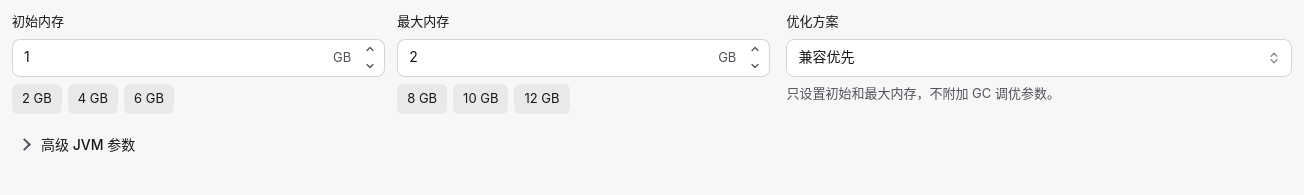
Test: memory: max memory offers only the three presets 8 / 10 / 12 GB, and clicking a preset fills it in directly
The image size is (1304, 195).
Click the button "8 GB" at [422, 98], box [397,84,447,114]
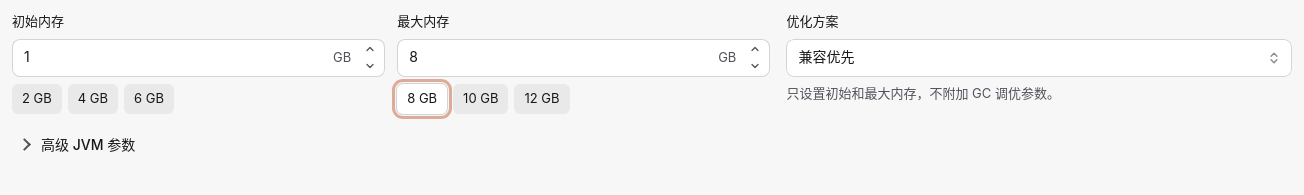
Result: the field labelled "最大内存" holds "8"
Clear the field labelled "最大内存" at [584, 58], box [397,38,770,76]
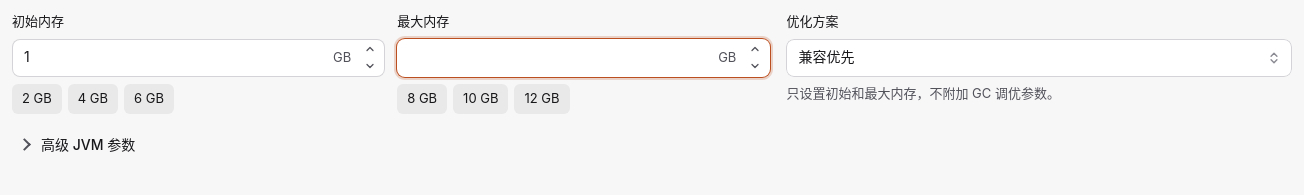
Press Tab
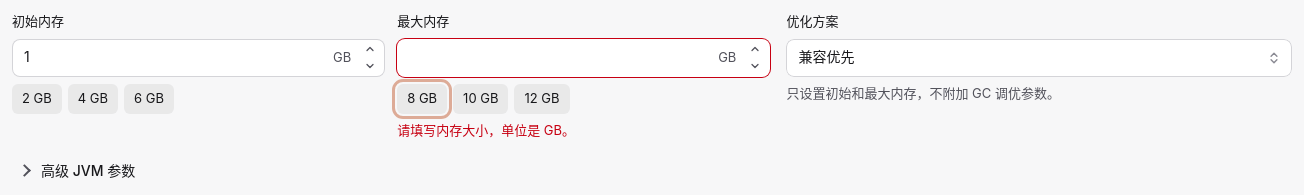
Click the button "10 GB" at [481, 98], box [453,84,508,114]
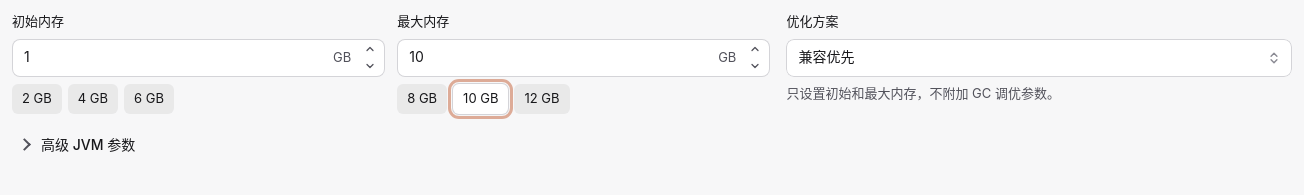
Result: the field labelled "最大内存" holds "10" at [397,38,770,76]
Result: the text "请填写内存大小，单位是 GB。" is gone
